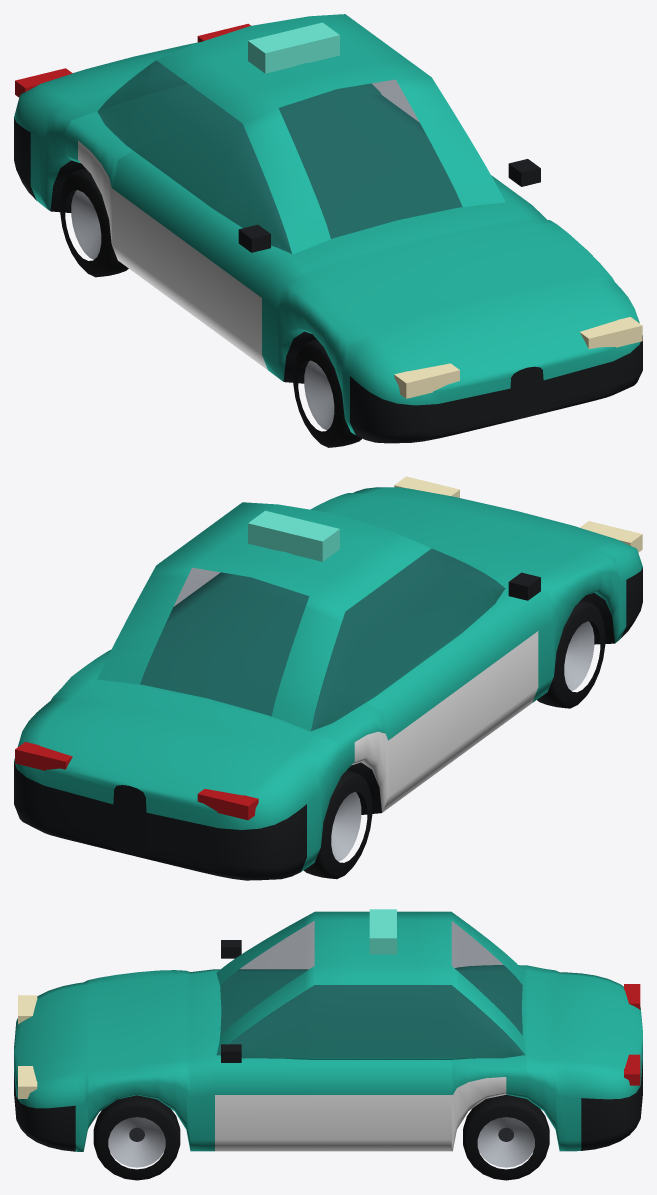
The model's file is desktop.glb.
3 views of the same model, one above another, from view 1: azimuth 30°, elevation 25°; view 2: azimuth 150°, elevation 25°; view 3: azimuth 270°, elevation 25° (orthographic). The views are drawn at different scales.
Visible parts, largest first — view 1: body, glass, roof_sign, tyre_rr, tyre_fr, light_head_r, rim_rr, rim_fr, light_head_l, light_brake_r; view 2: body, glass, roof_sign, tyre_rr, tyre_fr, rim_fr, rim_rr, light_brake_r, light_brake_l, light_head_r, light_head_l; view 3: body, glass, tyre_rl, tyre_fl, rim_fl, rim_rl, roof_sign, light_head_l, light_brake_l, light_head_r.
Part boxes in pixels (x1=…): body: x1=14, y1=14, x2=642, y2=443; glass: x1=97, y1=60, x2=462, y2=253; roof_sign: x1=248, y1=22, x2=339, y2=73; tyre_rr: x1=60, y1=168, x2=128, y2=277; tyre_fr: x1=293, y1=339, x2=361, y2=447; light_head_r: x1=394, y1=363, x2=459, y2=398; rim_rr: x1=71, y1=190, x2=101, y2=259; rim_fr: x1=304, y1=360, x2=334, y2=430; light_head_l: x1=579, y1=317, x2=642, y2=349; light_brake_r: x1=15, y1=68, x2=72, y2=97; body: x1=14, y1=487, x2=642, y2=880; glass: x1=140, y1=548, x2=505, y2=731; roof_sign: x1=248, y1=510, x2=339, y2=561; tyre_rr: x1=304, y1=770, x2=372, y2=879; tyre_fr: x1=537, y1=600, x2=605, y2=708; rim_fr: x1=564, y1=621, x2=594, y2=690; rim_rr: x1=331, y1=792, x2=361, y2=861; light_brake_r: x1=197, y1=789, x2=258, y2=820; light_brake_l: x1=15, y1=742, x2=72, y2=770; light_head_r: x1=580, y1=521, x2=642, y2=552; light_head_l: x1=394, y1=476, x2=459, y2=497; body: x1=14, y1=911, x2=642, y2=1151; glass: x1=217, y1=921, x2=524, y2=1058; tyre_rl: x1=463, y1=1094, x2=549, y2=1180; tyre_fl: x1=93, y1=1095, x2=180, y2=1180; rim_fl: x1=108, y1=1117, x2=165, y2=1167; rim_rl: x1=477, y1=1117, x2=534, y2=1167; roof_sign: x1=369, y1=909, x2=396, y2=954; light_head_l: x1=18, y1=1066, x2=37, y2=1098; light_brake_l: x1=624, y1=1054, x2=640, y2=1085; light_head_r: x1=18, y1=995, x2=37, y2=1024.
Size of what is drawn, in the model's own units: 1.93 by 1.67 by 4.6.
